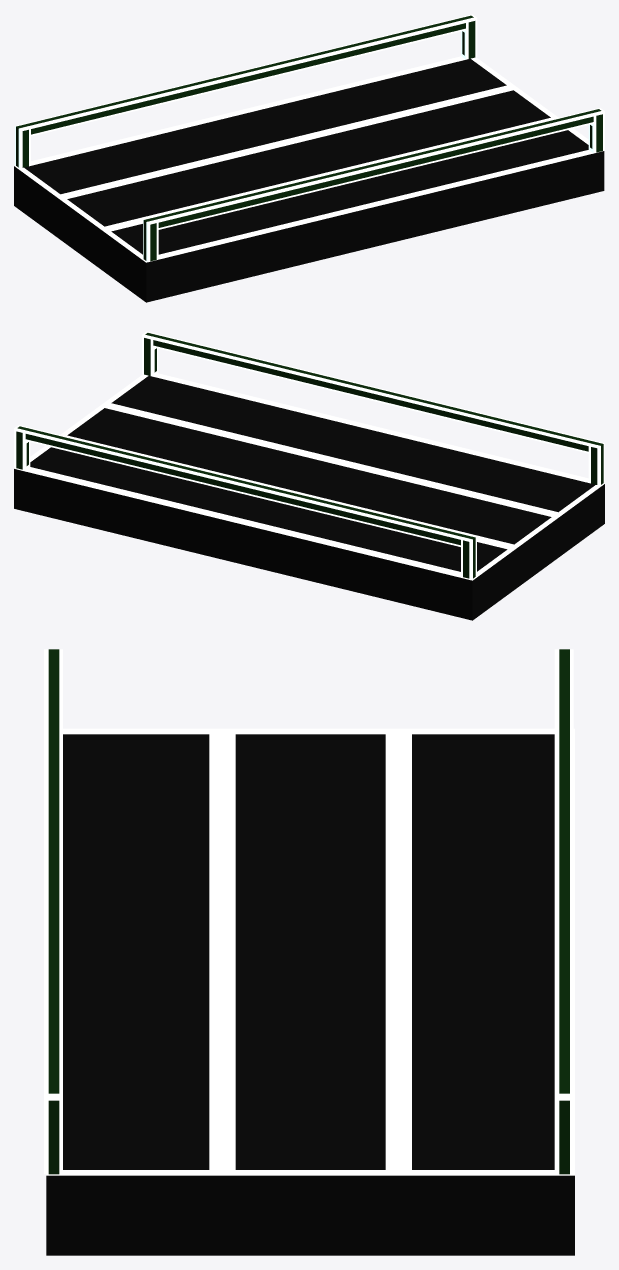
File: Level_2_Road.fbx
3 renders of one model, top to bottom at view 1: azimuth 30°, elevation 25°; view 2: azimuth 150°, elevation 25°; view 3: azimuth 270°, elevation 25°, orthographic. The views are drawn at different scales.
Parts seen in each view (by area): view 1: Cube, Cube.002, Cube.001; view 2: Cube, Cube.001, Cube.002; view 3: Cube, Cube.002, Cube.001.
Part boxes in pixels (box(x1,y1,x2,y2)): Cube: box(14, 57, 604, 302); Cube.002: box(15, 14, 477, 168); Cube.001: box(143, 108, 604, 261); Cube: box(14, 374, 604, 620); Cube.001: box(142, 331, 604, 485); Cube.002: box(14, 425, 476, 579); Cube: box(46, 728, 574, 1255); Cube.002: box(554, 649, 573, 1174); Cube.001: box(44, 649, 62, 1174).
Bounding box in the file's own units: 1201 × 200 × 603.
